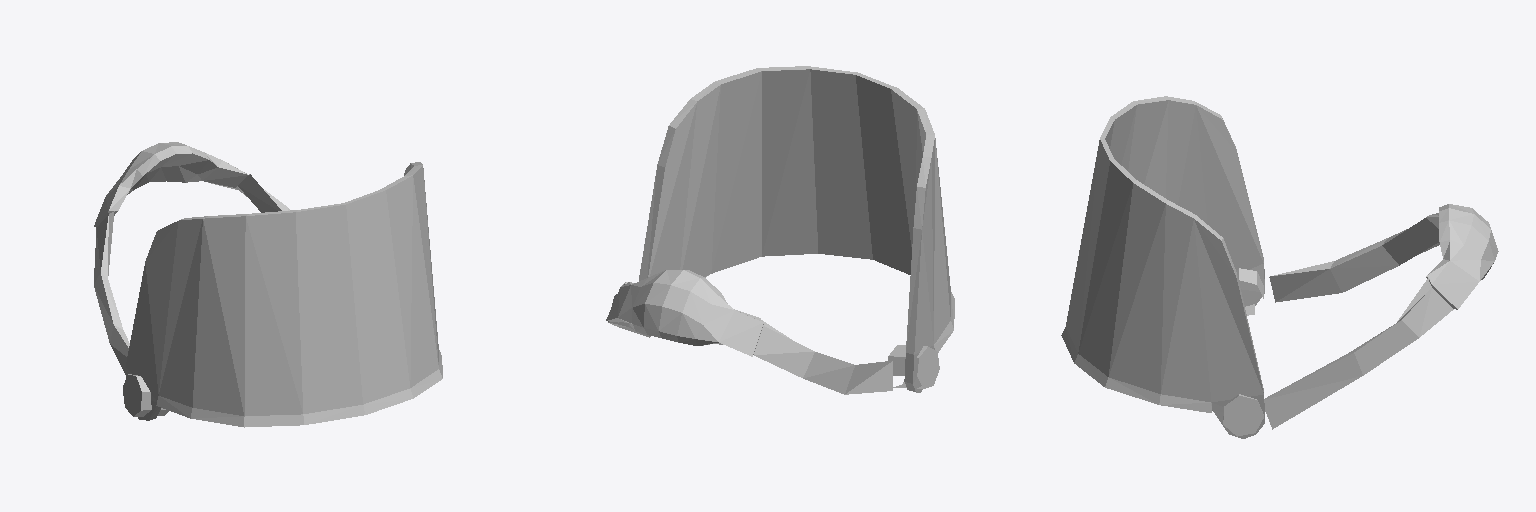
The model's file is HelmetGlass.obj.
3 views of the same model, side by side, from view 1: azimuth 30°, elevation 25°; view 2: azimuth 150°, elevation 25°; view 3: azimuth 270°, elevation 25° (orthographic).
Parts seen in each view (by area): view 1: VaultSecurityHelm.041, VaultSecurityHelmet; view 2: VaultSecurityHelm.041, VaultSecurityHelmet; view 3: VaultSecurityHelm.041, VaultSecurityHelmet.
Part boxes in pixels (x1,y1,x2,y2): VaultSecurityHelm.041: (123,162,442,427); VaultSecurityHelmet: (94,142,289,374); VaultSecurityHelm.041: (639,66,954,392); VaultSecurityHelmet: (606,270,892,394); VaultSecurityHelm.041: (1061,96,1264,438); VaultSecurityHelmet: (1264,204,1498,429).
Bounding box in the file's own units: 14.73 × 11.46 × 19.33.